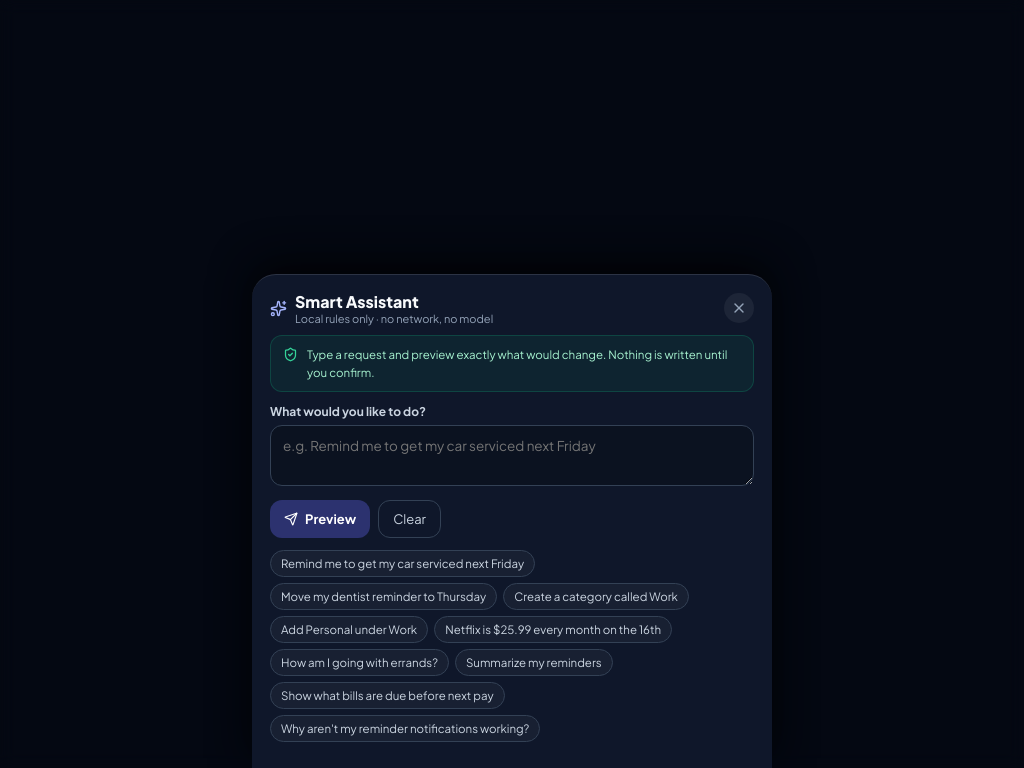
it: MindMesh Smart Assistant surface › previews a command without writing, and writes only after Confirm
This screenshot has width=1024, height=768.
Expected: the text "Local rules only · no network, no model" is shown, x1=295 y1=312 x2=493 y2=325
Expected: the text "Nothing is written until you confirm" is shown, x1=307 y1=347 x2=727 y2=380
Type "Remind me to service the car" into the text box with test id "smart-assistant-command" at {"x": 512, "y": 455}, box x1=270 y1=425 x2=754 y2=486
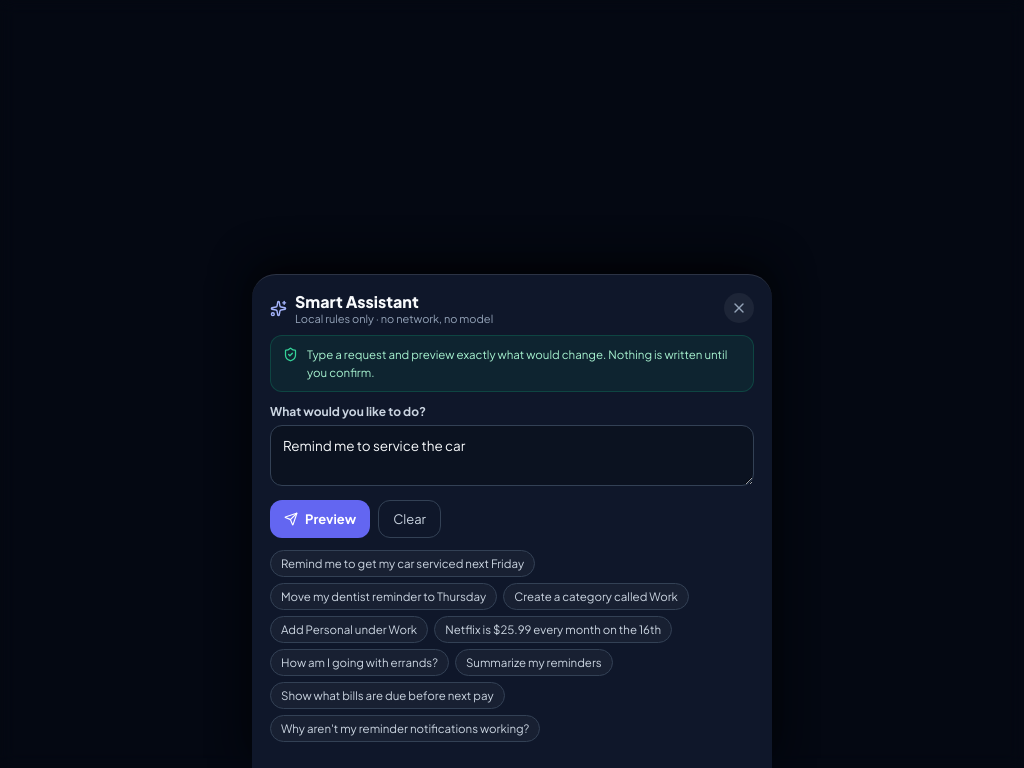
Click the button with test id "smart-assistant-ready" at {"x": 320, "y": 519}, box x1=270 y1=500 x2=370 y2=538
(page scrolled)
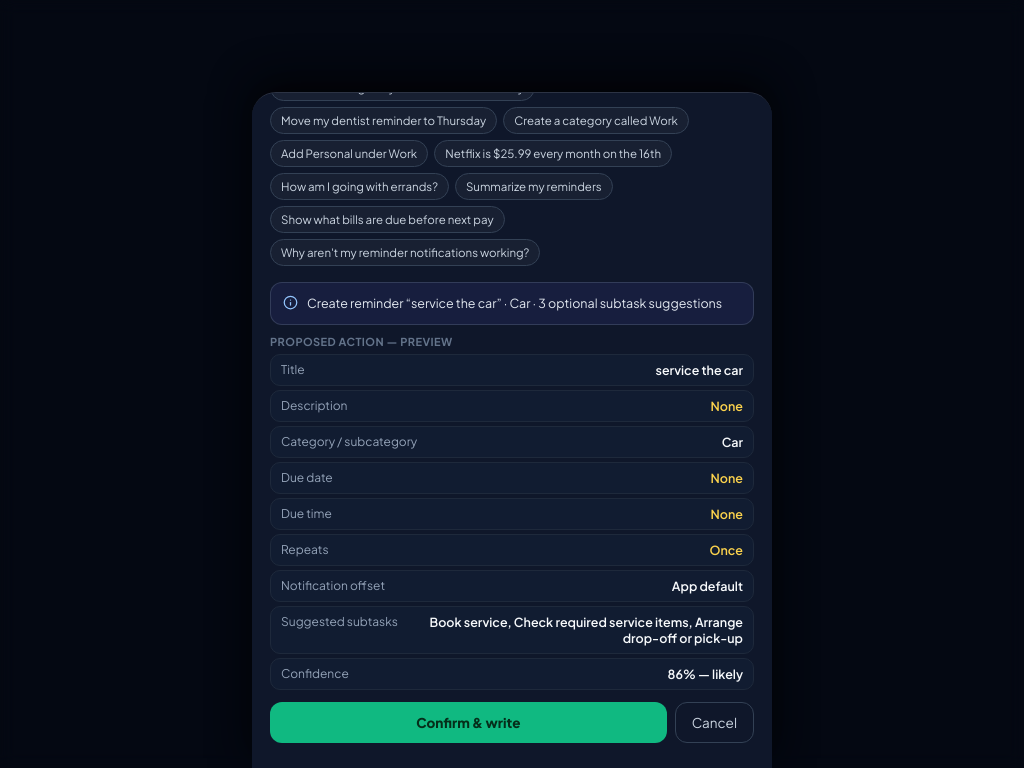
Now the element with test id "smart-assistant-rows" is shown, box x1=270 y1=334 x2=754 y2=690
Now the text "PROPOSED ACTION — PREVIEW" is shown, box x1=270 y1=334 x2=453 y2=348
Click the button with test id "smart-assistant-confirm" at {"x": 468, "y": 722}, box x1=270 y1=702 x2=667 y2=742
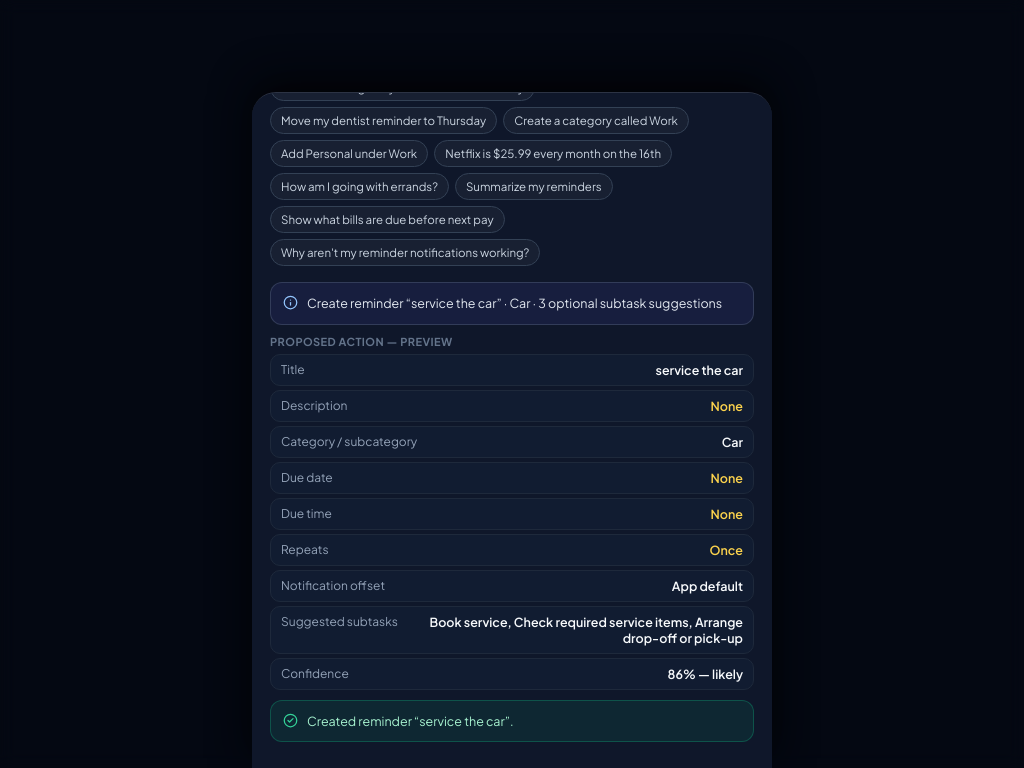
Now the text "service the car" is shown, box x1=656 y1=362 x2=743 y2=378
Now the message with test id "smart-assistant-outcome" shows "Created reminder", box x1=307 y1=712 x2=514 y2=728
